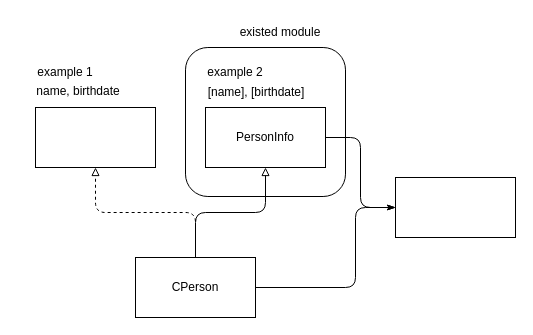
Image size: 533x335. Some labels were removed from this diagram. Each missing label, with the centre of its shape:
DatabaseID: pixel 455 207
IPerson: pixel 95 137
